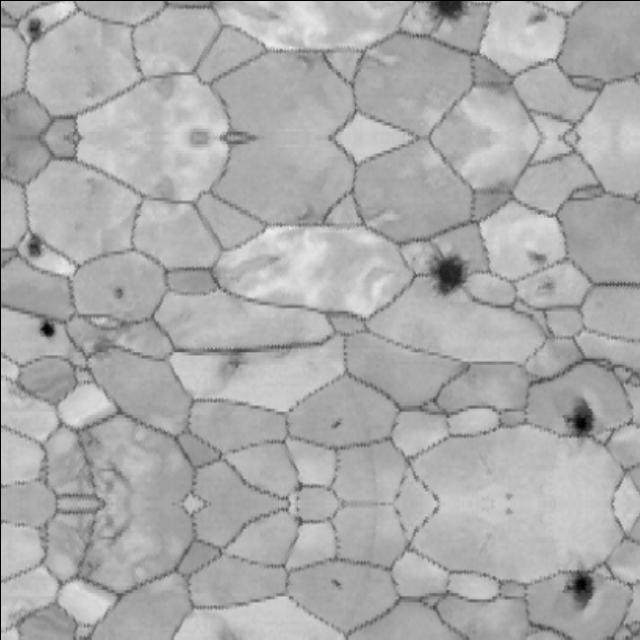good_void: (422, 248, 470, 301), (90, 453, 137, 504), (90, 504, 137, 555), (80, 327, 119, 366), (566, 401, 601, 441), (566, 567, 601, 607), (72, 420, 103, 459), (72, 549, 103, 588), (215, 352, 247, 385), (36, 308, 63, 342), (530, 271, 560, 301), (19, 235, 45, 263), (19, 13, 45, 41), (526, 242, 549, 269), (526, 7, 549, 34), (324, 411, 346, 435), (324, 573, 346, 597), (293, 53, 319, 71), (289, 476, 310, 498), (289, 510, 310, 532), (498, 485, 518, 508), (498, 500, 518, 523), (293, 205, 319, 222), (106, 280, 127, 301), (0, 151, 17, 174), (0, 102, 17, 124), (215, 630, 243, 640)
